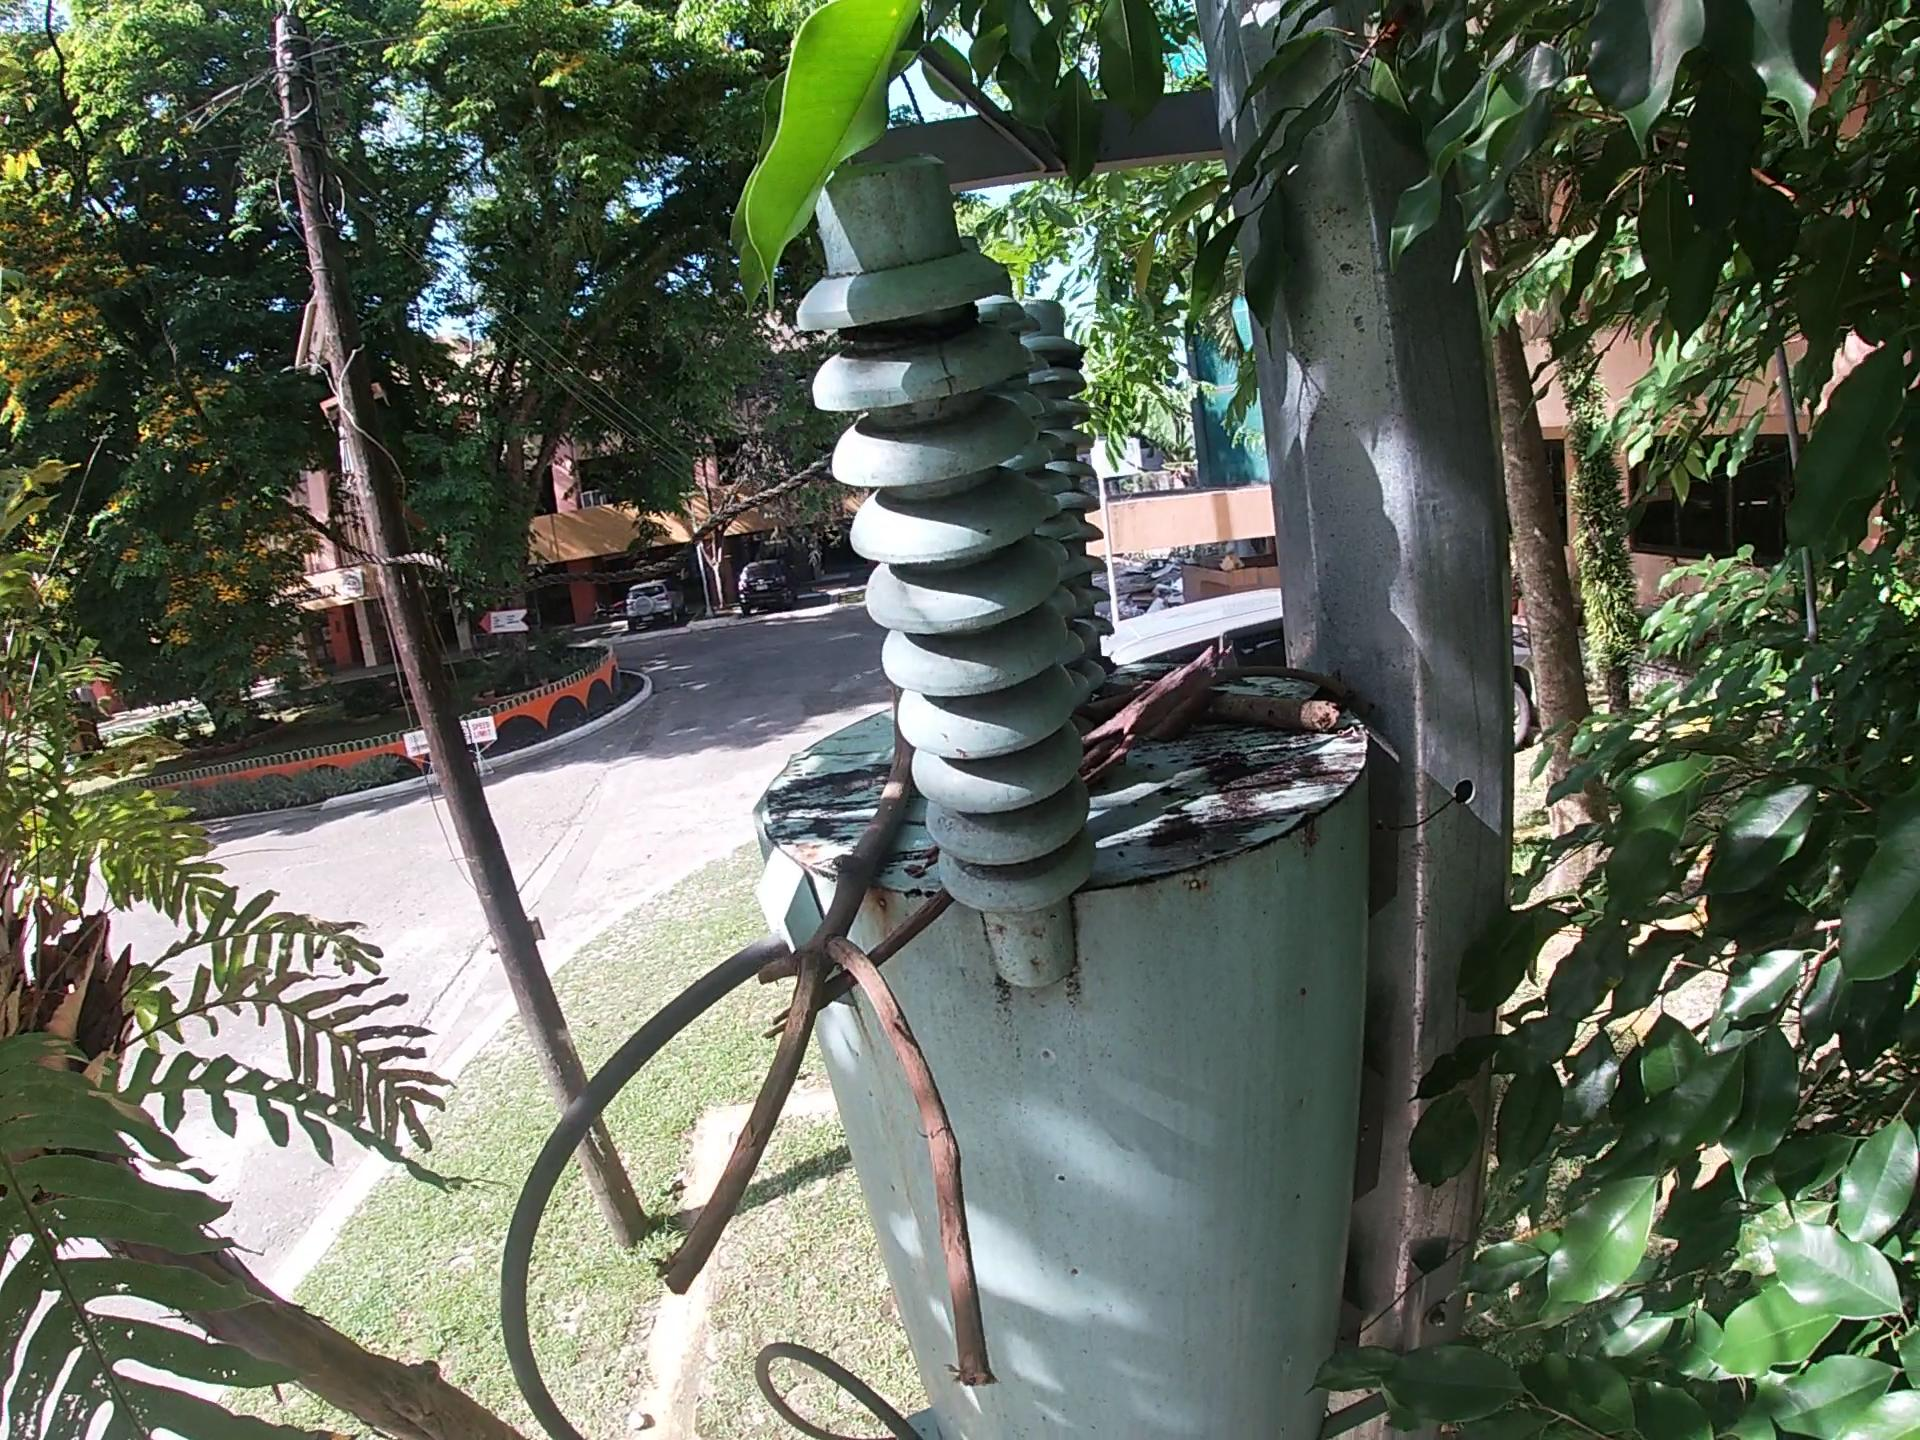leaf: (1143, 685, 1225, 753)
tree branch: (643, 691, 1020, 1396), (754, 882, 958, 1051), (1072, 635, 1231, 793), (1087, 679, 1341, 737), (1206, 655, 1361, 706)
